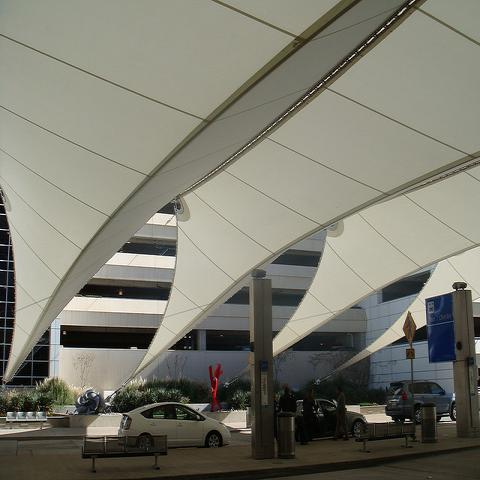car: (115, 399, 232, 450), (385, 380, 456, 423), (295, 399, 368, 432)
